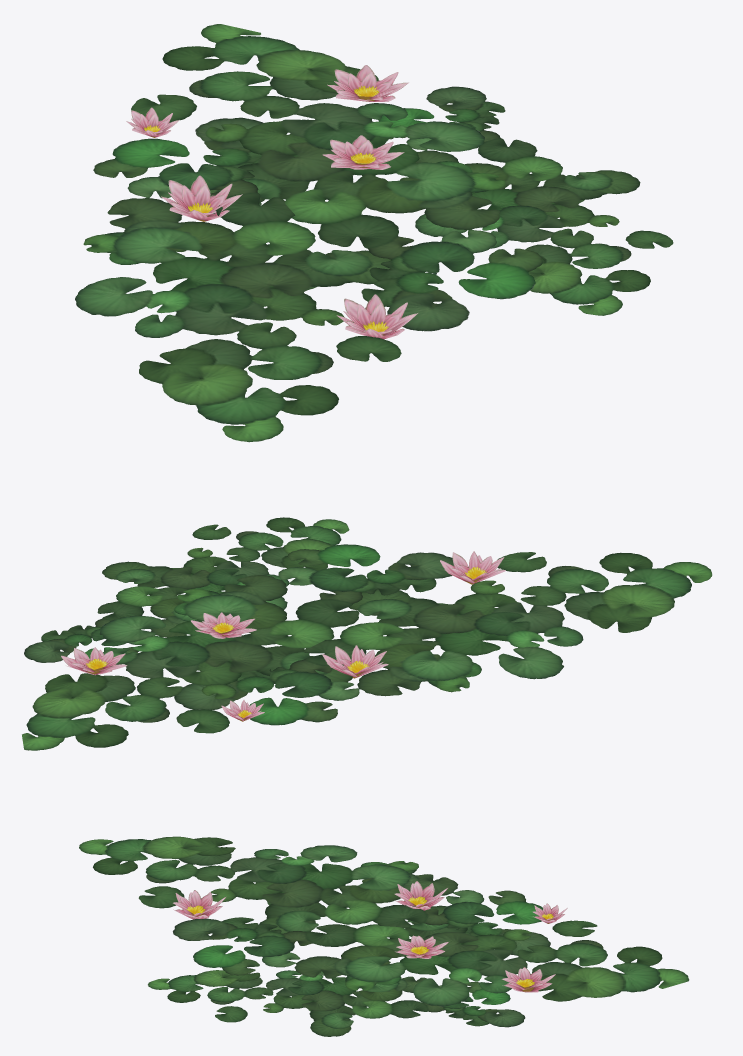
Rendered from SM_Water_Lilys_A.fbx.
3 views of the same model, one above another, from view 1: azimuth 30°, elevation 25°; view 2: azimuth 150°, elevation 25°; view 3: azimuth 270°, elevation 25° (orthographic). The views are drawn at different scales.
Visible parts, largest first — view 1: SM_Water_Lilys_A_LOD0; view 2: SM_Water_Lilys_A_LOD0; view 3: SM_Water_Lilys_A_LOD0.
Boxes of the visible parts, bbox=[...] form: SM_Water_Lilys_A_LOD0: bbox=[75, 24, 673, 442]; SM_Water_Lilys_A_LOD0: bbox=[22, 517, 712, 750]; SM_Water_Lilys_A_LOD0: bbox=[79, 836, 689, 1036].
Size of the model in its own units: 78.65 by 108 by 4.24.
1 material, 1 textured.
